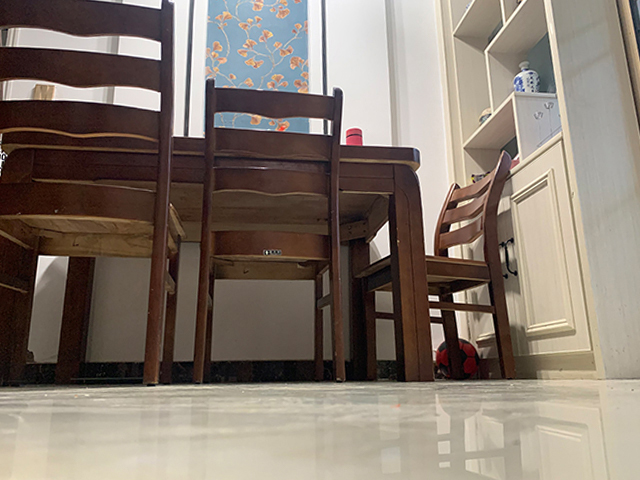cabinet: (434, 126, 598, 381)
stool: (1, 1, 186, 387), (190, 78, 346, 383), (354, 150, 516, 380)
